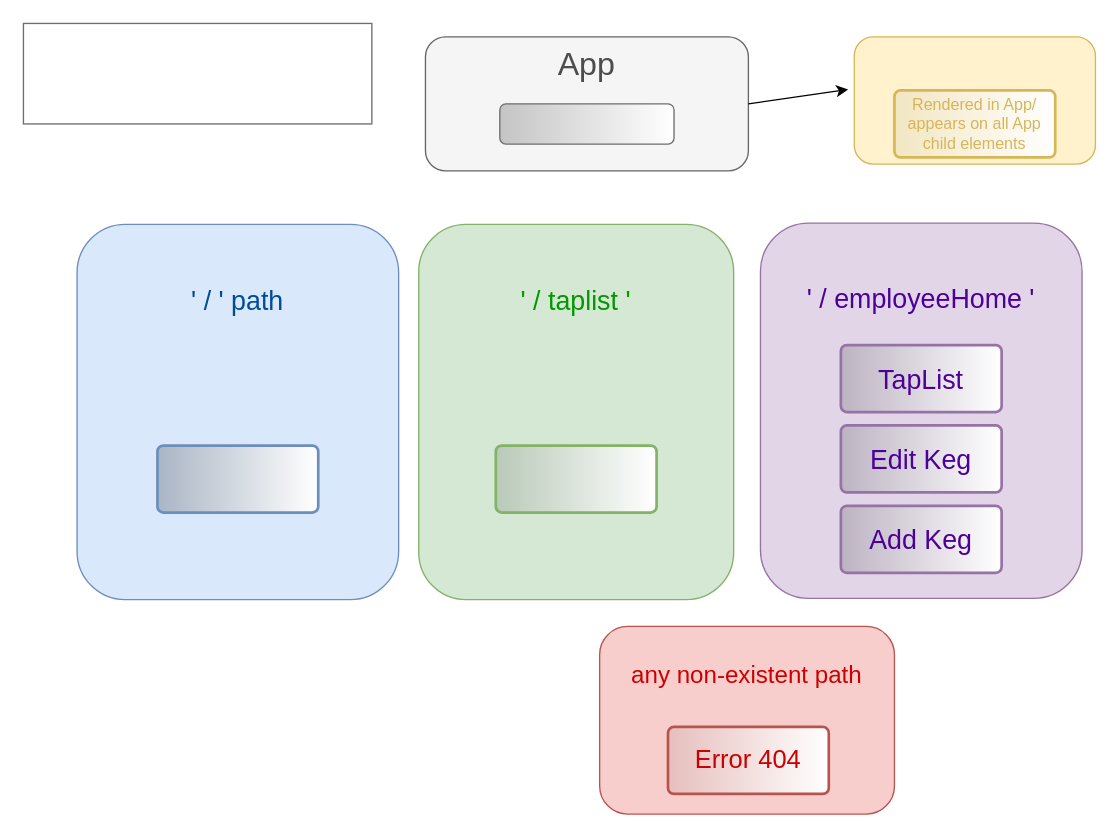
The diagram is 1119 pixels wide and 838 high, and some of its shapes have lost their labels. The shapes that lost their labels are listed below. From the top down, each one's box as (x1, y1, x2, y2) in pixels, then its label:
(22, 22, 372, 124): Taproom Component and Route Structure
(853, 36, 1095, 164): Header
(498, 103, 674, 144): Routes
(155, 444, 319, 513): Home
(494, 444, 657, 513): Keg
